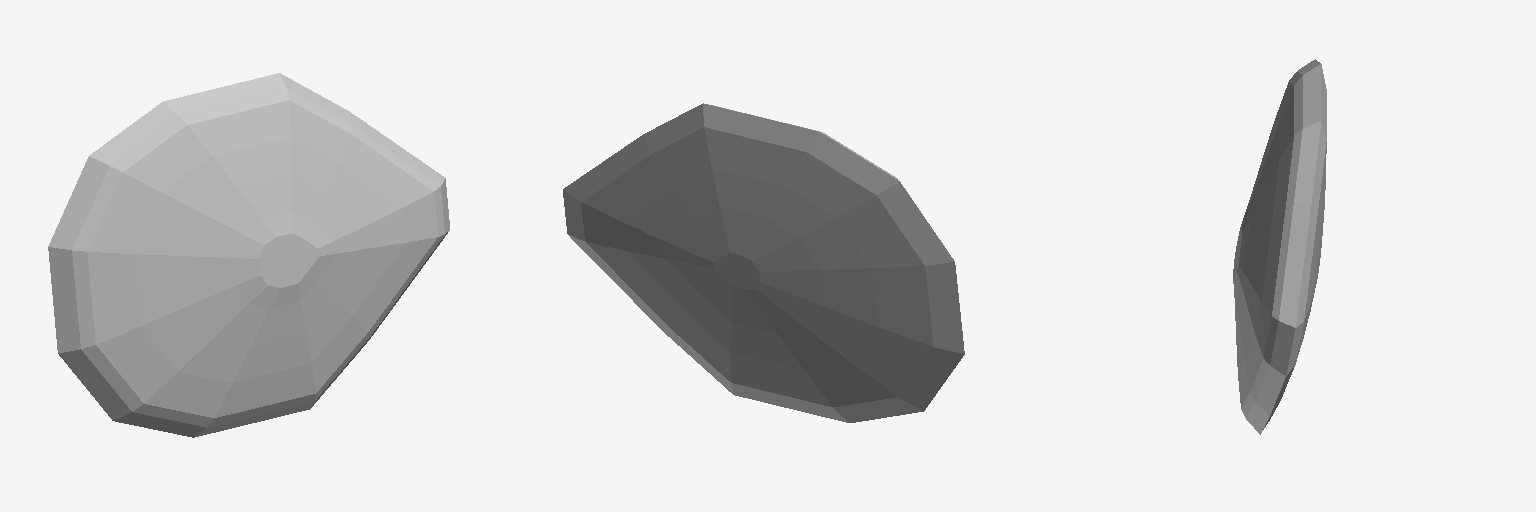
Rendered from seeds.obj.
3 views of the same model, side by side, from view 1: azimuth 30°, elevation 25°; view 2: azimuth 150°, elevation 25°; view 3: azimuth 270°, elevation 25° (orthographic).
Parts seen in each view (by area): view 1: Plane; view 2: Plane; view 3: Plane.
Part boxes in pixels (left/top/right/bottom): Plane: left=48, top=73, right=449, bottom=437; Plane: left=563, top=103, right=964, bottom=422; Plane: left=1233, top=59, right=1326, bottom=434.
Bounding box in the file's own units: 0.3484 × 0.2647 × 0.0714.